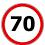Speed Limit -70-: (0, 1, 44, 44)
